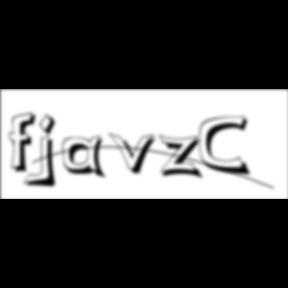C: (199, 115, 254, 178)
a: (63, 135, 111, 182)
f: (8, 111, 42, 175)
j: (36, 113, 64, 191)
v: (109, 131, 163, 177)
z: (158, 134, 207, 182)
